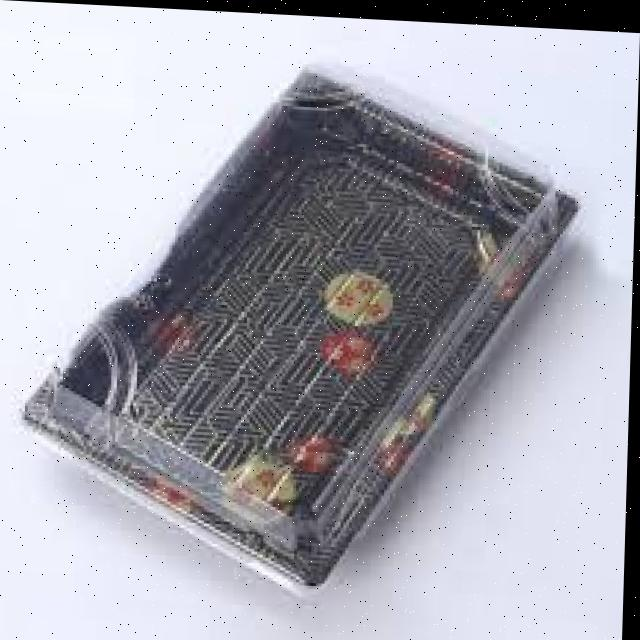disposable: (20, 23, 615, 623)
